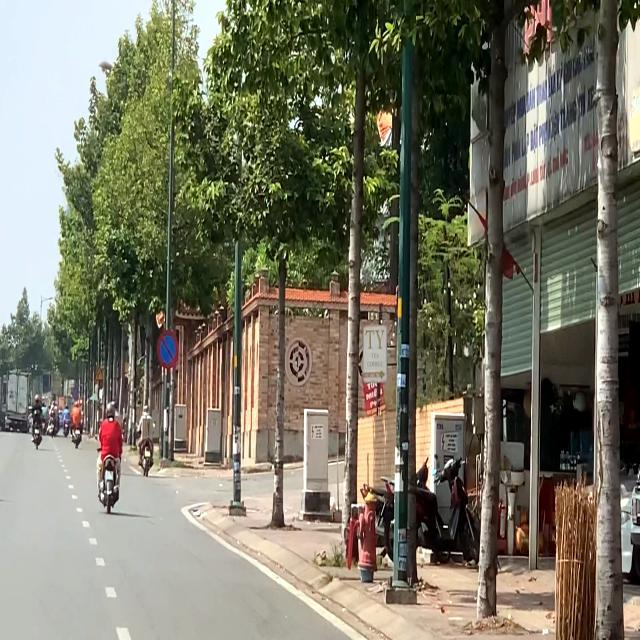P-131a: (155, 329, 182, 367)
